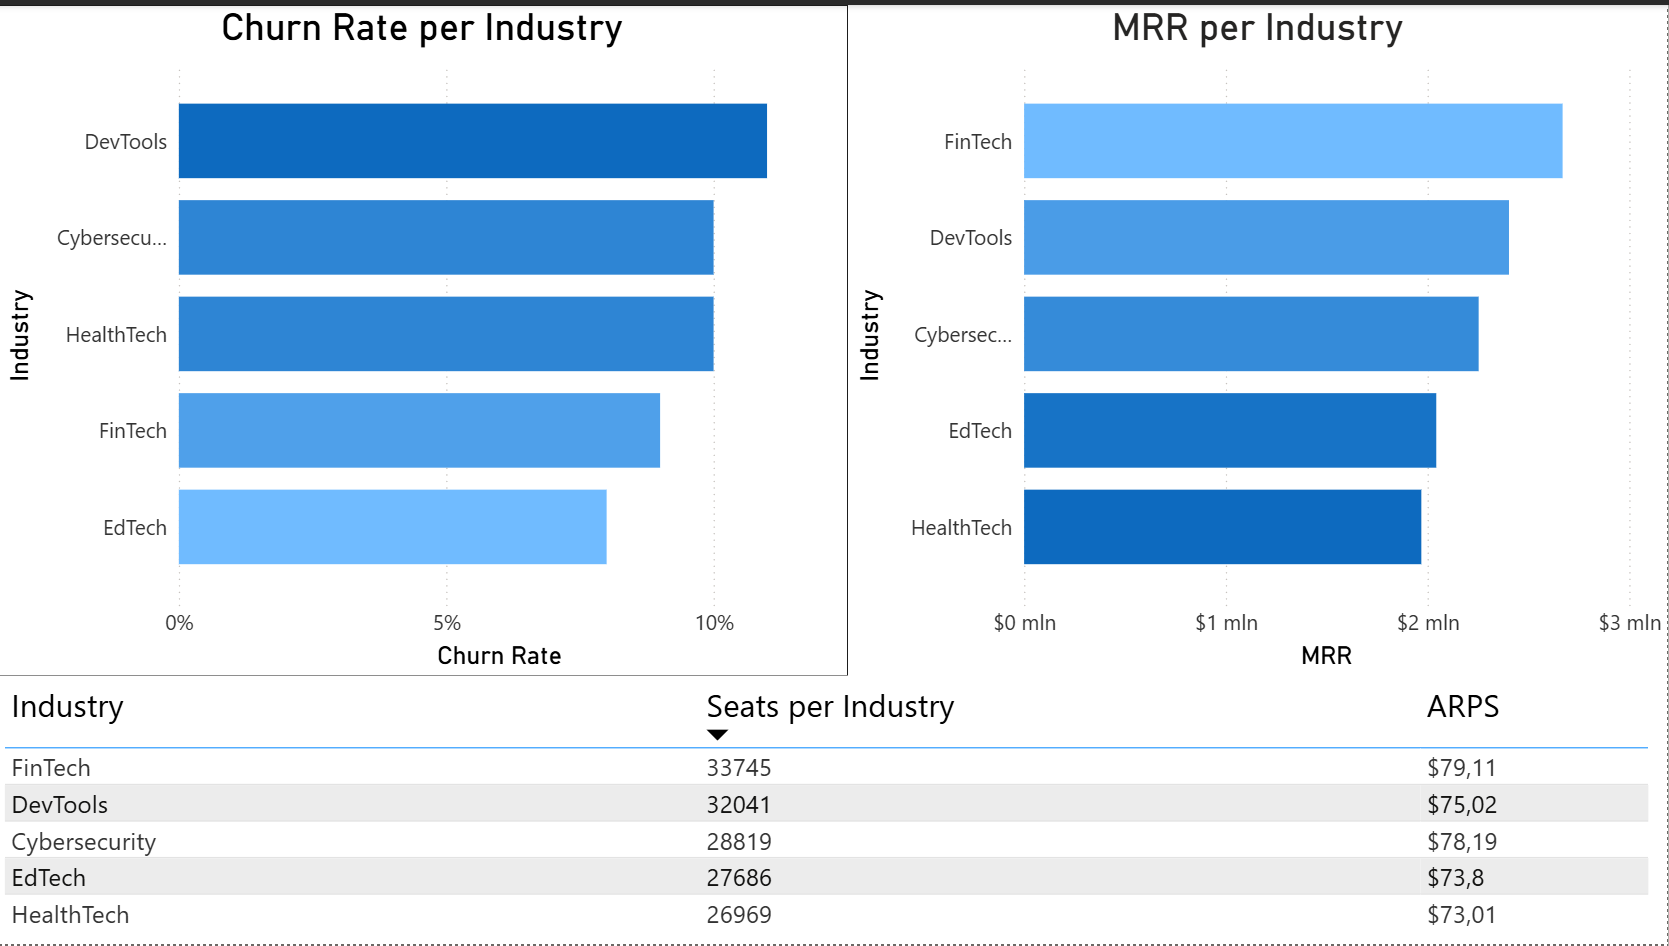

The page's visual inventory and layout, read from the dashboard file:
{"tool":"powerbi","page":{"name":"Revenue & Churn Overview by Industry","canvas":[1280,720],"ordinal":2},"visuals":[{"type":"barChart","title":"MRR per Industry","fields":{"Category":["industry_unit_economics.industry"],"Y":["Sum(industry_unit_economics.monthly_revenue)"]},"box":[651.7,0,628.7,513.8],"z":0},{"type":"barChart","title":"Churn Rate per Industry","fields":{"Y":["Sum(industry_unit_economics.churn_rate_per_industry)"],"Category":["industry_unit_economics.industry"]},"box":[0,0,651.7,513.8],"z":1000},{"type":"tableEx","fields":{"Values":["industry_unit_economics.industry","Sum(industry_unit_economics.seats_per_industry)","Sum(industry_unit_economics.monthly_revenue_per_seat)"]},"box":[0,513.8,1280.4,205.7],"z":2000}]}

Visuals, with their boxes in screenshot pixels (x1, y1, x2, y2), scaled from the page's 1280x720 canvas onto the 1669x946 screenshot:
"MRR per Industry" barChart: region(850, 0, 1668, 675)
"Churn Rate per Industry" barChart: region(0, 0, 850, 675)
tableEx - industry_unit_economics.industry x Sum(industry_unit_economics.seats_per_industry): region(0, 675, 1668, 945)
